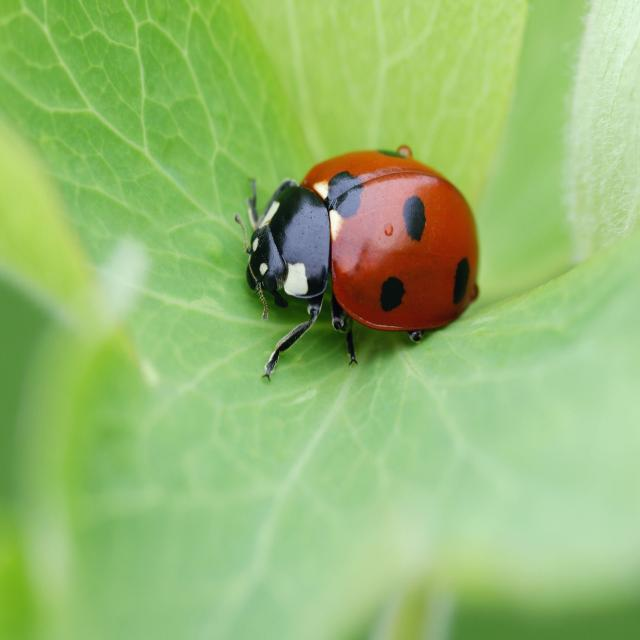ladybug: (246, 147, 478, 379)
